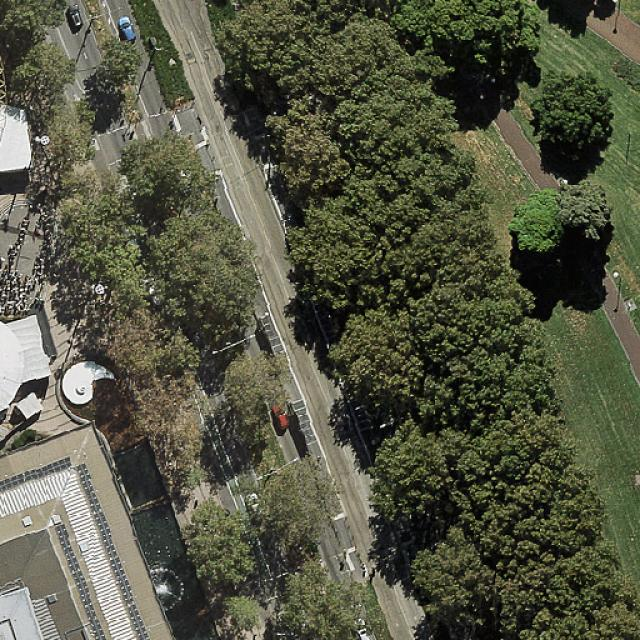Bike-Symbols: (73, 93, 83, 103)
